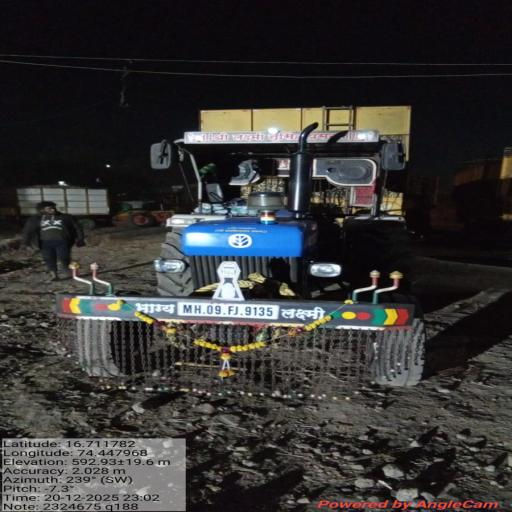number_plate: (174, 300, 288, 326)
